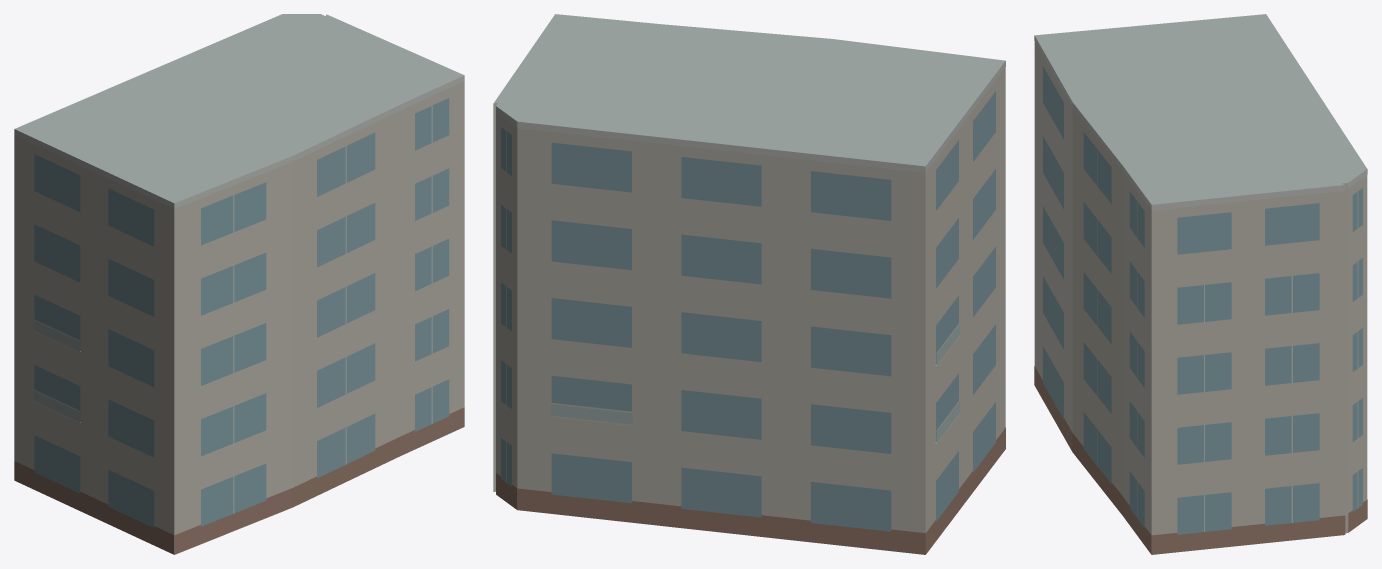
File: survey-upis-32640679.glb
3 views of the same model, side by side, from view 1: azimuth 30°, elevation 25°; view 2: azimuth 150°, elevation 25°; view 3: azimuth 270°, elevation 25° (orthographic). The views are drawn at different scales.
Parts seen in each view (by area): view 1: survey-upis-32640679.tmp; view 2: survey-upis-32640679.tmp; view 3: survey-upis-32640679.tmp.
Boxes of the visible parts, x1=… form: survey-upis-32640679.tmp: x1=14, y1=14, x2=464, y2=554; survey-upis-32640679.tmp: x1=493, y1=14, x2=1005, y2=554; survey-upis-32640679.tmp: x1=1034, y1=14, x2=1367, y2=554.
Bounding box in the file's own units: 17.55 × 15 × 12.93.
